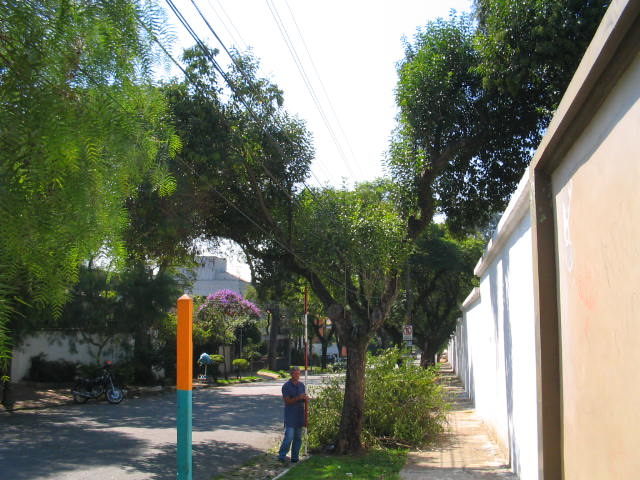crown: (119, 1, 614, 273)
stem: (324, 342, 381, 454)
stick: (295, 287, 314, 457)
tree: (117, 1, 615, 454)
